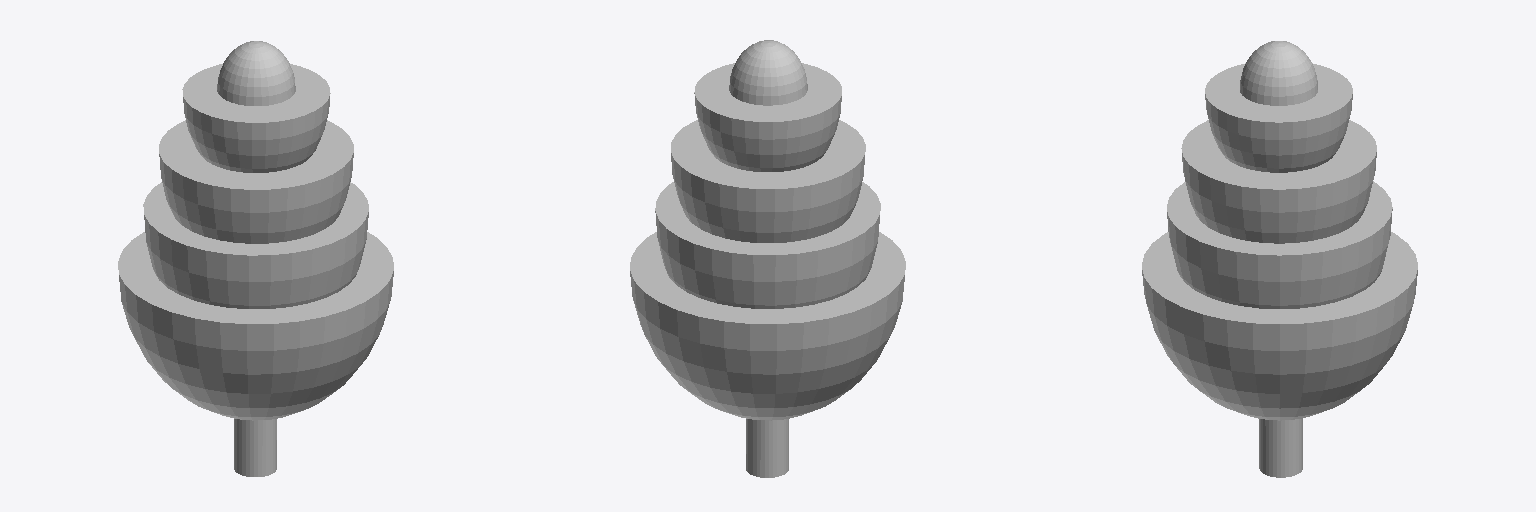
File: Pinecone.obj
3 views of the same model, side by side, from view 1: azimuth 30°, elevation 25°; view 2: azimuth 150°, elevation 25°; view 3: azimuth 270°, elevation 25° (orthographic).
Parts seen in each view (by area): view 1: Sphere, Sphere.001, Sphere.002, Sphere.003, Sphere.004, Cylinder; view 2: Sphere, Sphere.001, Sphere.002, Sphere.003, Sphere.004, Cylinder; view 3: Sphere, Sphere.001, Sphere.002, Sphere.003, Sphere.004, Cylinder.
Boxes of the visible parts, <box> form: Sphere: <box>118,232,393,420</box>; Sphere.001: <box>143,182,368,308</box>; Sphere.002: <box>159,120,353,243</box>; Sphere.003: <box>182,64,330,172</box>; Sphere.004: <box>217,41,295,105</box>; Cylinder: <box>234,419,276,476</box>; Sphere: <box>630,232,905,420</box>; Sphere.001: <box>655,182,880,308</box>; Sphere.002: <box>671,120,865,242</box>; Sphere.003: <box>694,63,841,171</box>; Sphere.004: <box>729,40,807,105</box>; Cylinder: <box>746,419,788,477</box>; Sphere: <box>1142,232,1417,420</box>; Sphere.001: <box>1167,181,1392,308</box>; Sphere.002: <box>1181,120,1376,243</box>; Sphere.003: <box>1205,63,1352,172</box>; Sphere.004: <box>1240,41,1317,105</box>; Cylinder: <box>1259,418,1302,477</box>.
Size of the model in its own units: 2 by 3.39 by 2.